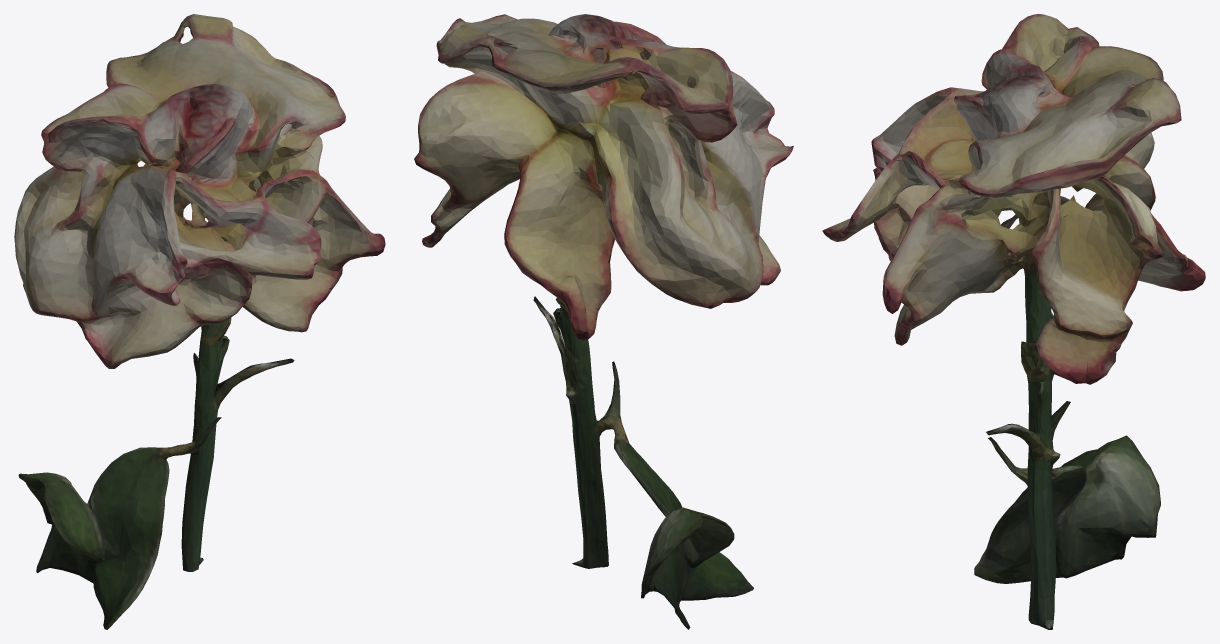
3 views of the same model, side by side, from view 1: azimuth 30°, elevation 25°; view 2: azimuth 150°, elevation 25°; view 3: azimuth 270°, elevation 25° (orthographic). The views are drawn at different scales.
Parts seen in each view (by area): view 1: world; view 2: world; view 3: world.
Boxes of the visible parts, box(x1,y1,x2,y2) form: world: box(14, 14, 385, 629); world: box(414, 14, 793, 629); world: box(822, 14, 1205, 629).
Bounding box in the file's own units: 0.5593 × 0.9703 × 0.5716.
1 material, 1 textured.
